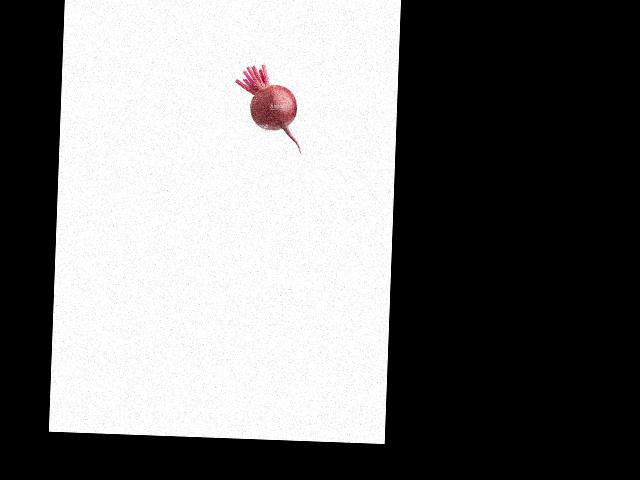beet: (232, 63, 305, 154)
